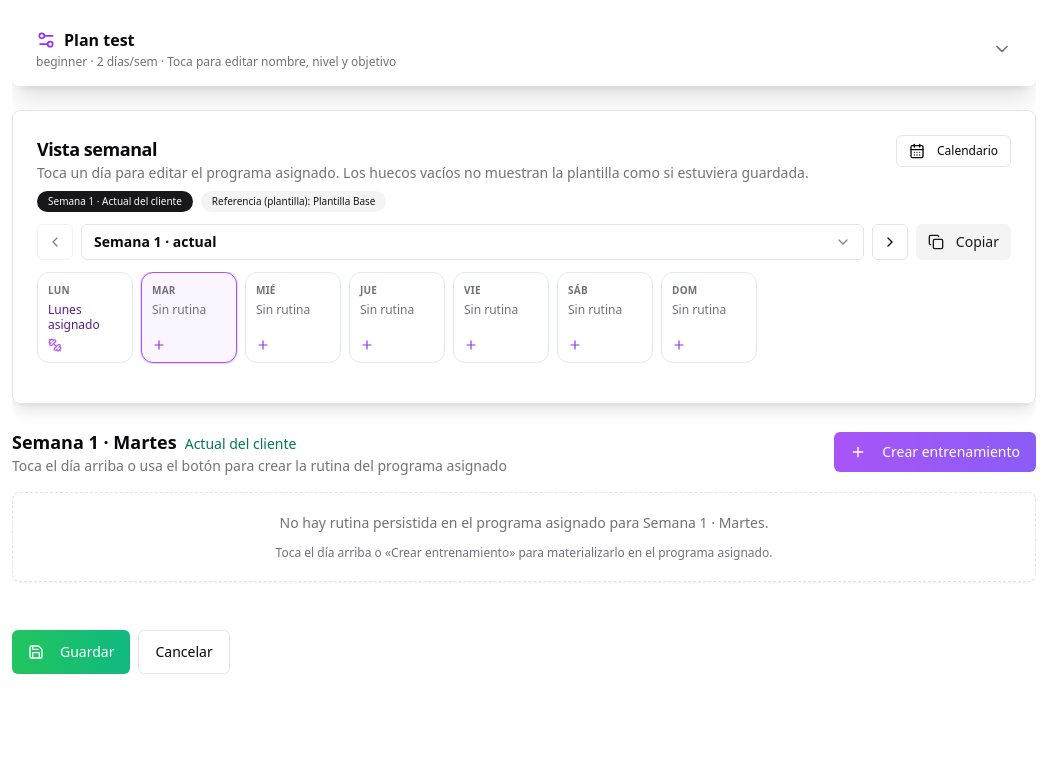
Test: editor de semanas del programa de usuario › no pinta ejercicios de la plantilla como si fueran del programa asignado
Click the button "Lun Lunes asignado": point(85, 318) [37,272,133,363]
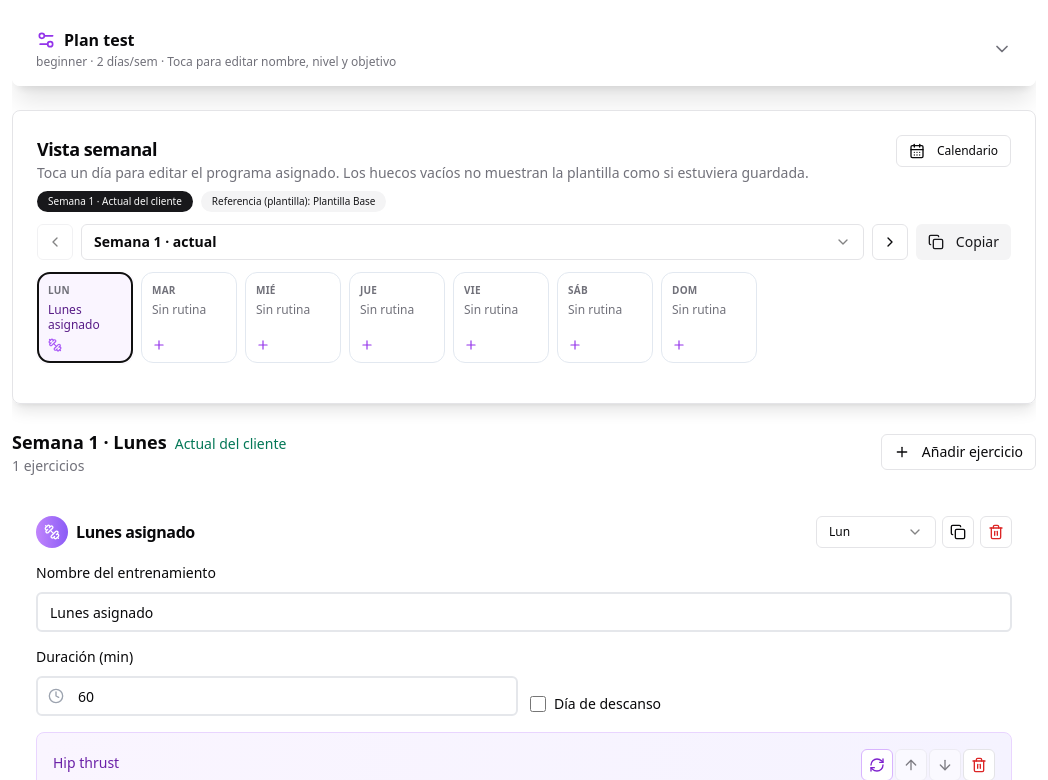
expect the text with test id "reference-template-badge" shows "Referencia (plantilla)": met, box [212,194,376,208]
expect the heading "Hip thrust" is shown: met, box [53,753,119,772]
